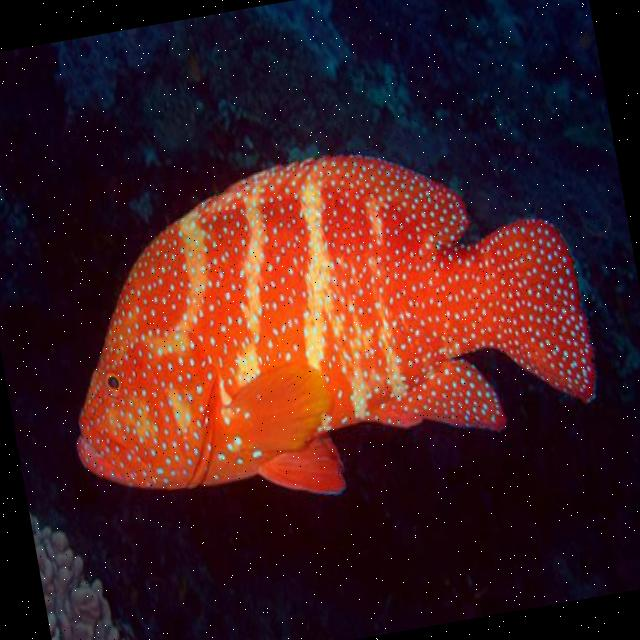ikan: (32, 111, 610, 538)
